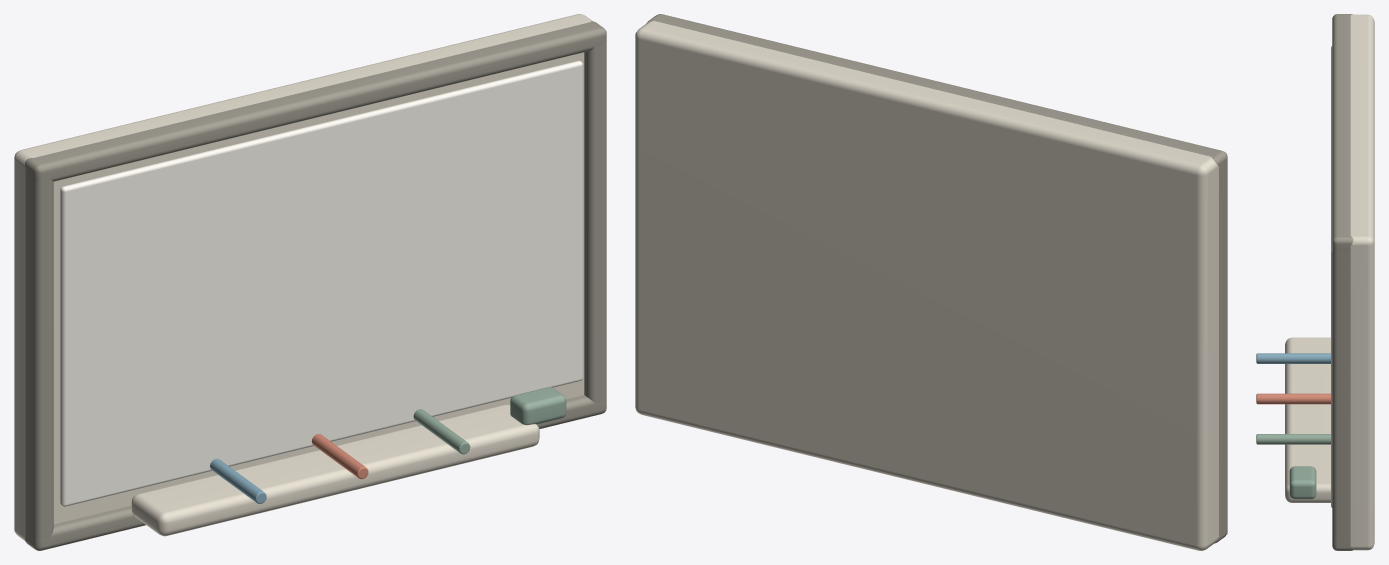
The model's file is whiteboard.glb.
The picture shows the model from 3 angles, left to right: view 1: azimuth 30°, elevation 25°; view 2: azimuth 150°, elevation 25°; view 3: azimuth 270°, elevation 25°; orthographic projection. The views are drawn at different scales.
Visible parts, largest first — view 1: White writing panel, Backing.003, Marker tray, Aluminum frame rail.001, Aluminum frame upright, Aluminum frame upright.001, Aluminum frame rail, Eraser, Whiteboard marker.002, Whiteboard marker, Whiteboard marker.001; view 2: Backing.003, Aluminum frame rail.001, Aluminum frame upright; view 3: Backing.003, Aluminum frame upright.001, Marker tray, Aluminum frame rail.001, White writing panel, Eraser, Whiteboard marker.001, Whiteboard marker, Whiteboard marker.002.
Part boxes in pixels (left/top/right/bottom): White writing panel: left=60, top=60, right=582, bottom=506; Backing.003: left=14, top=14, right=592, bottom=540; Marker tray: left=131, top=404, right=539, bottom=536; Aluminum frame rail.001: left=25, top=21, right=606, bottom=181; Aluminum frame upright: left=25, top=159, right=53, bottom=550; Aluminum frame upright.001: left=584, top=27, right=606, bottom=415; Aluminum frame rail: left=25, top=395, right=606, bottom=550; Eraser: left=510, top=387, right=566, bottom=425; Whiteboard marker.002: left=413, top=409, right=470, bottom=454; Whiteboard marker: left=210, top=458, right=266, bottom=503; Whiteboard marker.001: left=311, top=434, right=368, bottom=479; Backing.003: left=635, top=21, right=1218, bottom=550; Aluminum frame rail.001: left=646, top=14, right=1227, bottom=166; Aluminum frame upright: left=1213, top=149, right=1227, bottom=542; Backing.003: left=1350, top=14, right=1374, bottom=550; Aluminum frame upright.001: left=1332, top=234, right=1352, bottom=548; Marker tray: left=1285, top=337, right=1330, bottom=502; Aluminum frame rail.001: left=1332, top=14, right=1353, bottom=250; White writing panel: left=1331, top=46, right=1332, bottom=507; Eraser: left=1289, top=466, right=1316, bottom=499; Whiteboard marker.001: left=1256, top=393, right=1330, bottom=404; Whiteboard marker: left=1256, top=353, right=1330, bottom=363; Whiteboard marker.002: left=1256, top=434, right=1330, bottom=444.
Bounding box in the file's own units: 0.9 × 0.58 × 0.198.
